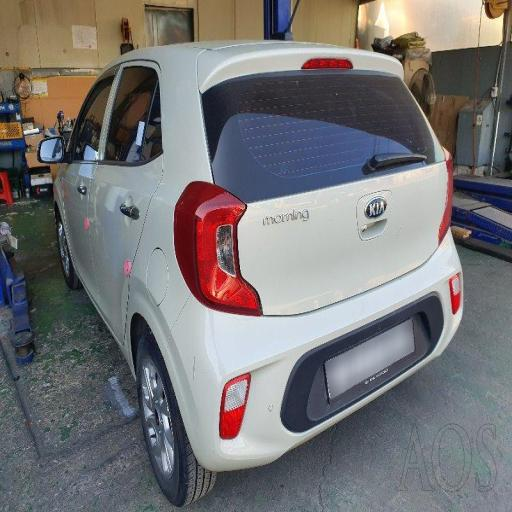normal: (56, 60, 464, 426)
